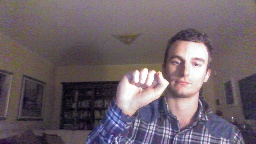Pugno: (112, 67, 171, 115)
